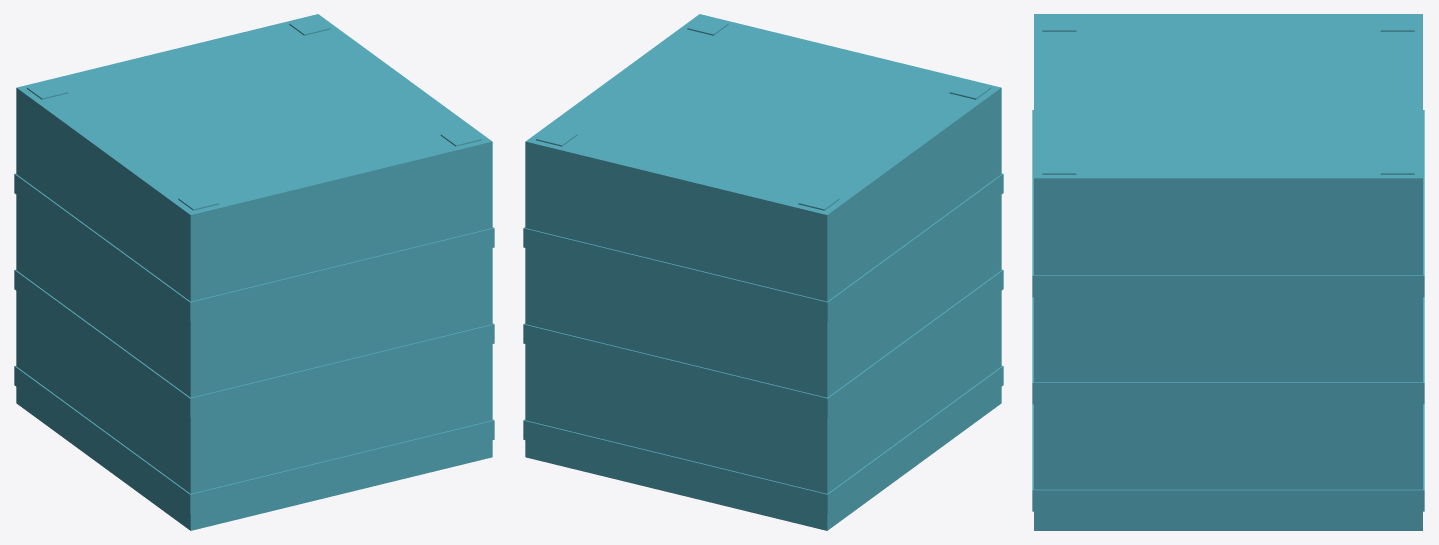
File: crate.glb
3 renders of one model, left to right at view 1: azimuth 30°, elevation 25°; view 2: azimuth 150°, elevation 25°; view 3: azimuth 270°, elevation 25°, orthographic. The views are drawn at different scales.
Size of the model in its own units: 1.16 by 1.16 by 1.16.
